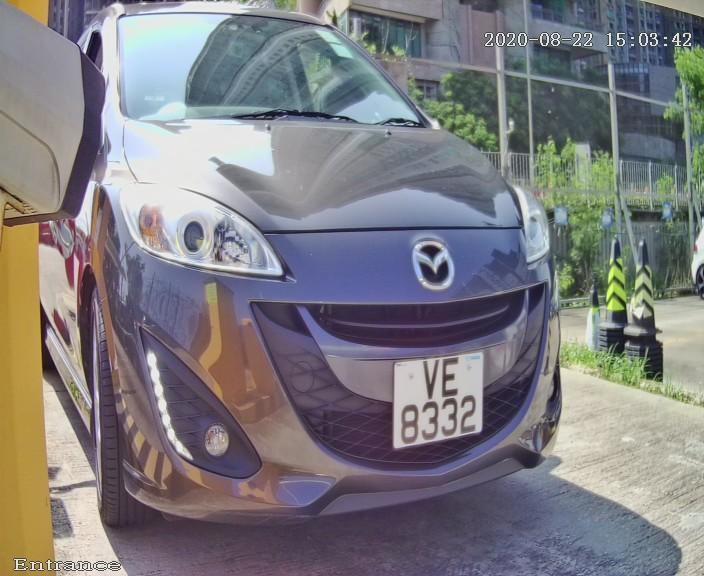License Plate: (381, 340, 488, 451)
